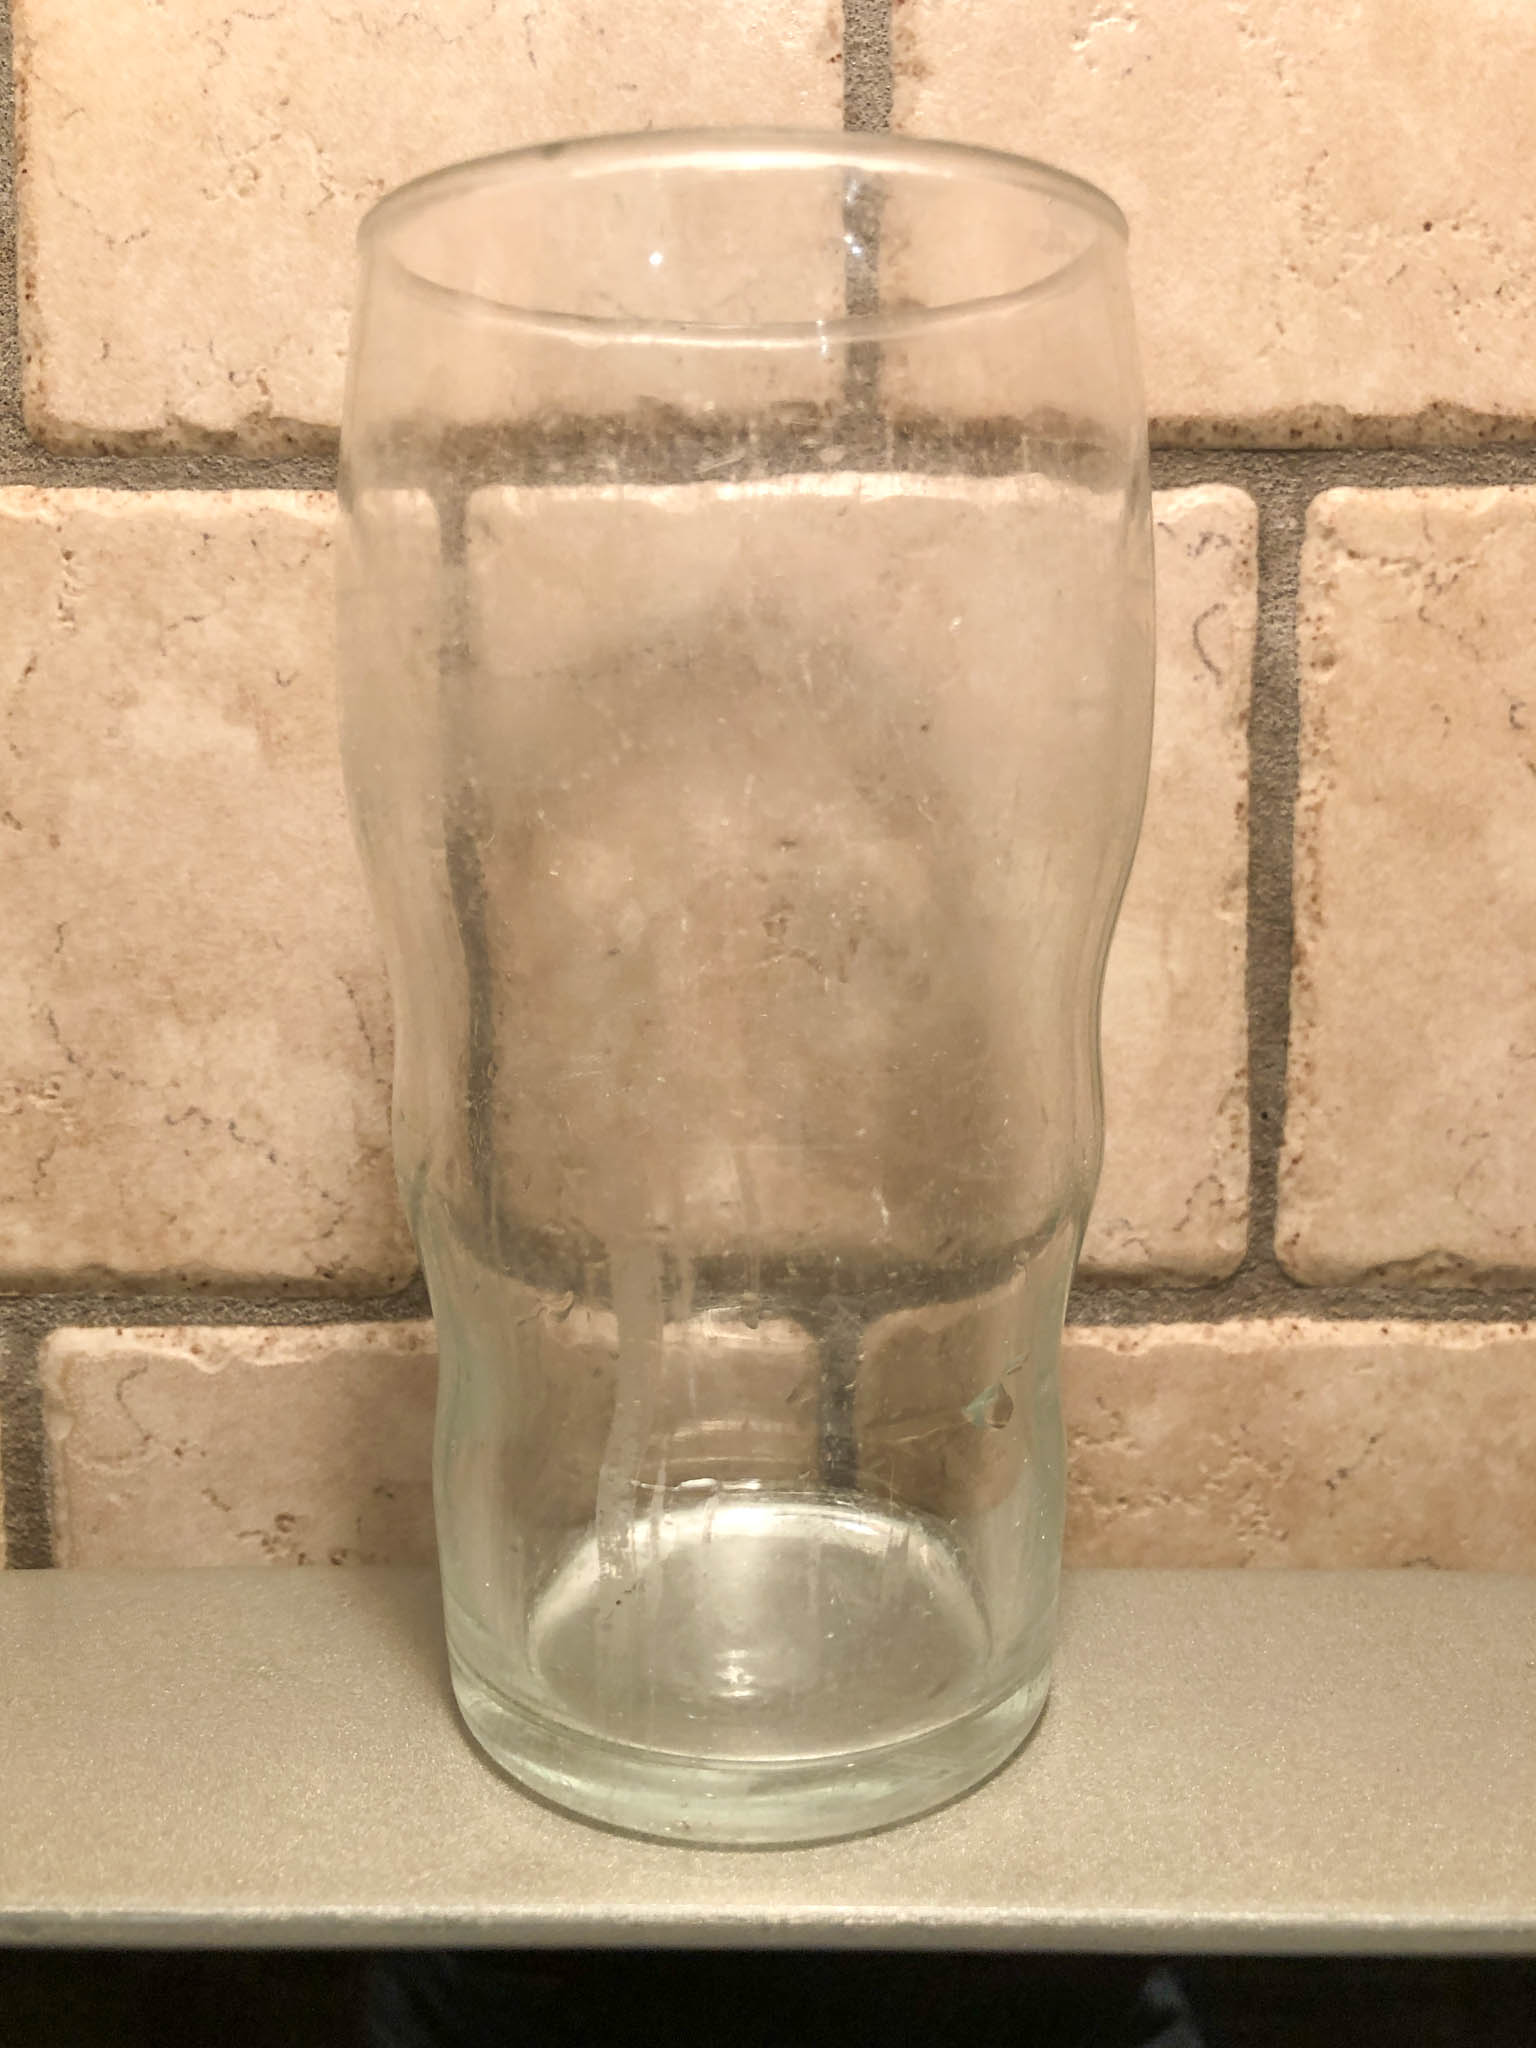glass: (315, 111, 1171, 1866)
